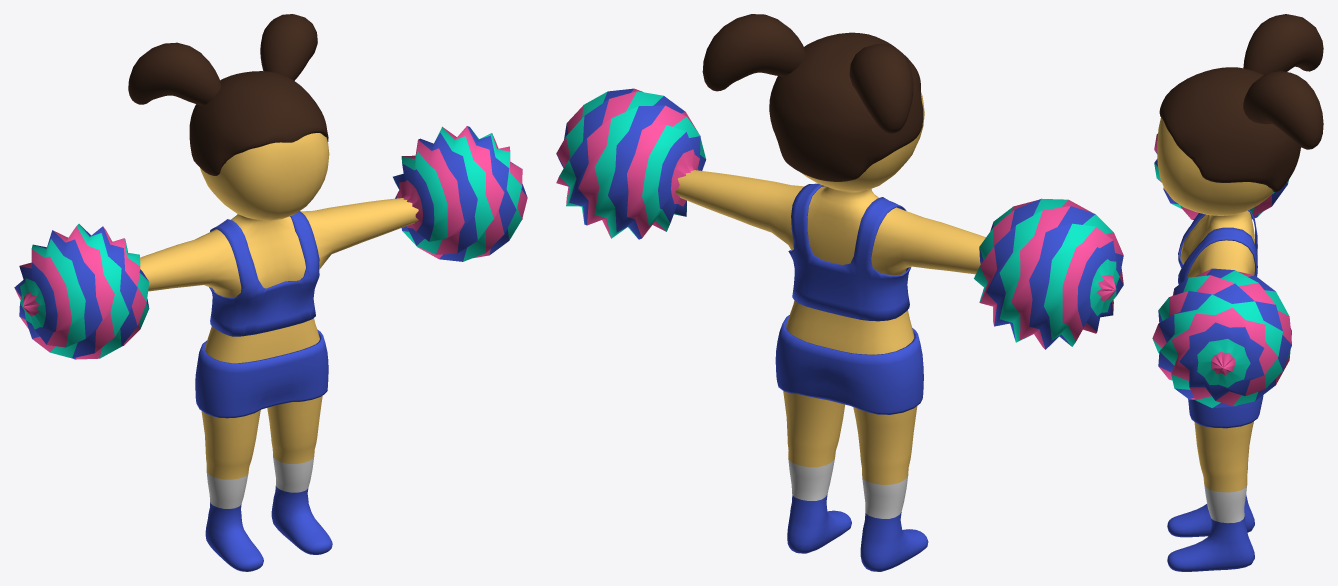
Rendered from Mascot-Girl.fbx.
3 views of the same model, side by side, from view 1: azimuth 30°, elevation 25°; view 2: azimuth 150°, elevation 25°; view 3: azimuth 270°, elevation 25° (orthographic). The views are drawn at different scales.
Visible parts, largest first — view 1: Body, PonPon.001, PonPon, Short, Athlete; view 2: Body, PonPon.001, PonPon, Short, Athlete; view 3: Body, PonPon, Short, Athlete, PonPon.001.
Boxes of the visible parts, x1=… form: Body: x1=128, y1=14, x2=418, y2=571; PonPon.001: x1=14, y1=224, x2=149, y2=359; PonPon: x1=393, y1=126, x2=527, y2=261; Short: x1=195, y1=329, x2=328, y2=418; Athlete: x1=209, y1=211, x2=319, y2=336; Body: x1=675, y1=14, x2=985, y2=571; PonPon.001: x1=974, y1=198, x2=1123, y2=349; PonPon: x1=556, y1=88, x2=706, y2=239; Short: x1=775, y1=315, x2=923, y2=414; Athlete: x1=788, y1=183, x2=911, y2=321; Body: x1=1157, y1=14, x2=1323, y2=571; PonPon: x1=1152, y1=268, x2=1291, y2=408; Short: x1=1188, y1=395, x2=1263, y2=428; Athlete: x1=1178, y1=209, x2=1257, y2=284; PonPon.001: x1=1154, y1=133, x2=1288, y2=219.
Bounding box in the file's own units: 6.94 × 6.58 × 2.02.
